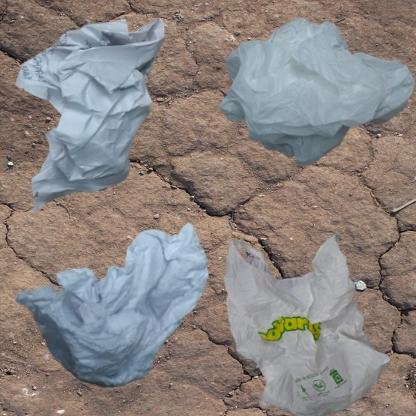bolsa: (213, 213, 407, 416), (213, 10, 416, 182)
papel: (10, 213, 213, 394), (10, 10, 179, 216)
